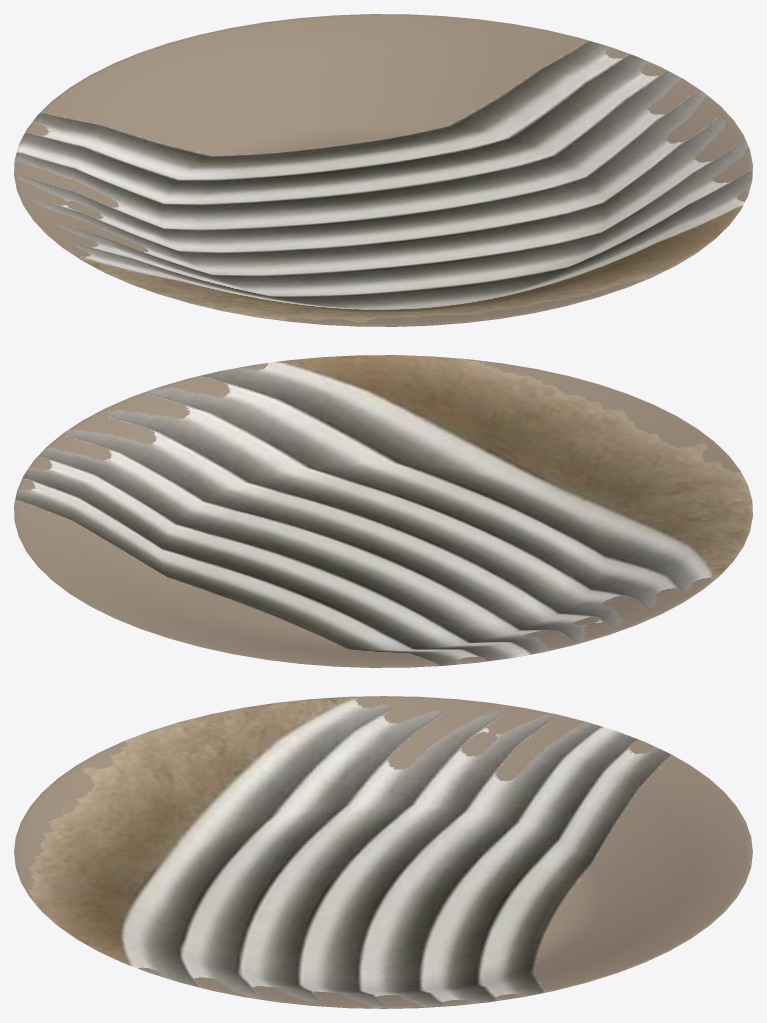
File: EST-07.glb
The picture shows the model from 3 angles, top to bottom: view 1: azimuth 30°, elevation 25°; view 2: azimuth 150°, elevation 25°; view 3: azimuth 270°, elevation 25°; orthographic projection.
Size of the model in its own units: 0.26 by 0.022 by 0.26.
2 materials, 2 textured.
